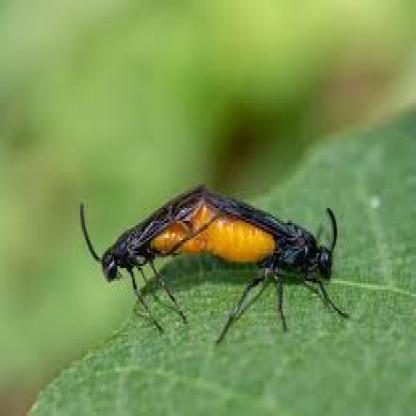sawfly: (184, 178, 354, 350), (77, 182, 211, 335)
